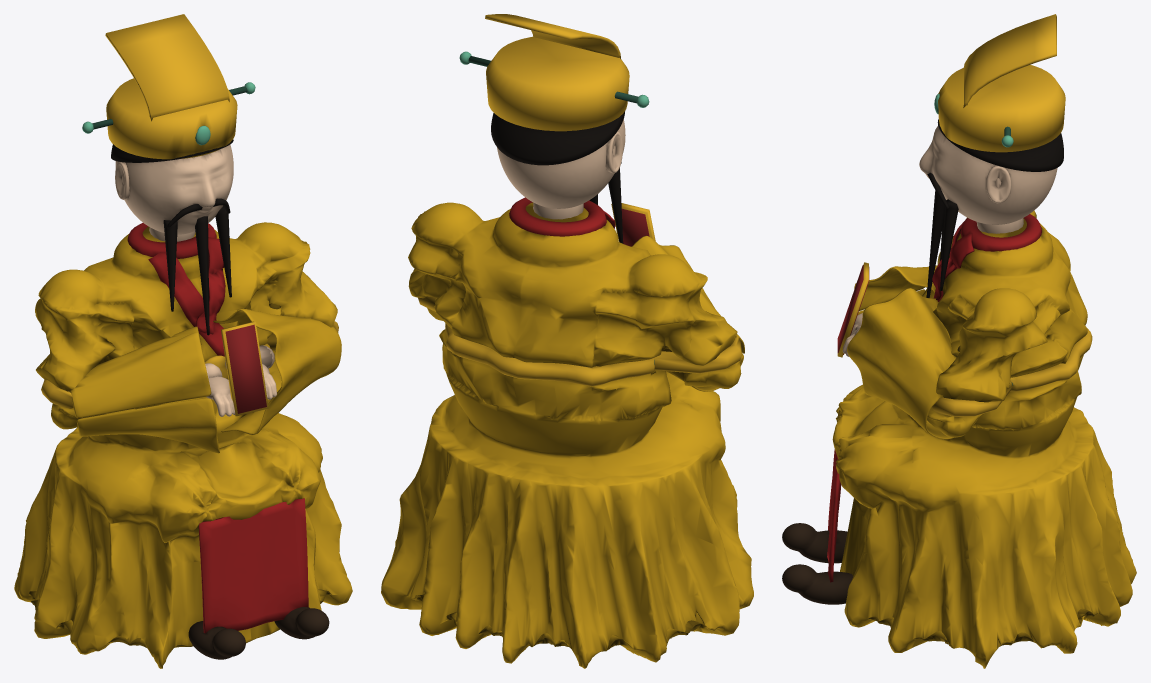
The model's file is siming.glb.
3 renders of one model, left to right at view 1: azimuth 30°, elevation 25°; view 2: azimuth 150°, elevation 25°; view 3: azimuth 270°, elevation 25°, orthographic. The views are drawn at different scales.
Parts seen in each view (by area): view 1: SM_Robe, SM_Crown, SM_SleeveL, SM_Apron, SM_HeadMesh, SM_SleeveR, SM_Lapel, SM_Beard, SM_Boots, SM_Tablet, SM_Collar, SM_Belt (+4 smaller); view 2: SM_Robe, SM_Crown, SM_Belt, SM_HeadMesh, SM_HairCap, SM_Collar, SM_SleeveL, SM_Tablet, SM_Beard, SM_Pin, SM_Ears, SM_Neck; view 3: SM_Robe, SM_Crown, SM_SleeveR, SM_HeadMesh, SM_Boots, SM_Belt, SM_HairCap, SM_Beard, SM_SleeveL, SM_Collar, SM_Apron, SM_Lapel (+3 smaller).
Part boxes in pixels (left/top/right/bottom): SM_Robe: left=14, top=222, right=352, bottom=668; SM_Crown: left=105, top=14, right=237, bottom=159; SM_SleeveL: left=70, top=326, right=219, bottom=453; SM_Apron: left=198, top=498, right=308, bottom=633; SM_HeadMesh: left=115, top=144, right=233, bottom=234; SM_SleeveR: left=213, top=308, right=341, bottom=434; SM_Lapel: left=148, top=237, right=225, bottom=356; SM_Beard: left=163, top=198, right=231, bottom=335; SM_Boots: left=188, top=607, right=329, bottom=659; SM_Tablet: left=225, top=324, right=266, bottom=413; SM_Collar: left=127, top=223, right=216, bottom=258; SM_Belt: left=41, top=321, right=338, bottom=408; SM_Robe: left=381, top=202, right=753, bottom=668; SM_Crown: left=485, top=14, right=629, bottom=131; SM_Belt: left=418, top=296, right=741, bottom=386; SM_HeadMesh: left=497, top=119, right=625, bottom=208; SM_HairCap: left=491, top=111, right=624, bottom=165; SM_Collar: left=509, top=197, right=606, bottom=236; SM_SleeveL: left=631, top=235, right=744, bottom=391; SM_Tablet: left=621, top=208, right=649, bottom=246; SM_Beard: left=589, top=162, right=623, bottom=243; SM_Pin: left=459, top=51, right=649, bottom=107; SM_Ears: left=606, top=131, right=622, bottom=173; SM_Neck: left=533, top=202, right=583, bottom=219; SM_Robe: left=832, top=210, right=1136, bottom=668; SM_Crown: left=938, top=14, right=1065, bottom=152; SM_SleeveR: left=847, top=288, right=977, bottom=439; SM_HeadMesh: left=919, top=126, right=1057, bottom=224; SM_Boots: left=782, top=523, right=853, bottom=604; SM_Belt: left=932, top=328, right=1092, bottom=416; SM_HairCap: left=937, top=119, right=1063, bottom=171; SM_Beard: left=926, top=172, right=958, bottom=297; SM_SleeveL: left=854, top=265, right=937, bottom=314; SM_Collar: left=960, top=214, right=1041, bottom=251; SM_Apron: left=827, top=449, right=841, bottom=582; SM_Lapel: left=932, top=221, right=974, bottom=301.
Size of the model in its own units: 1.18 by 2.05 by 1.16.
